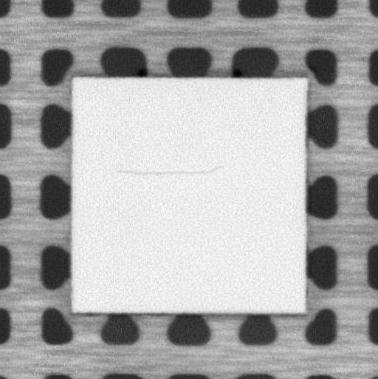DIE_CRACK: (116, 164, 225, 177)
